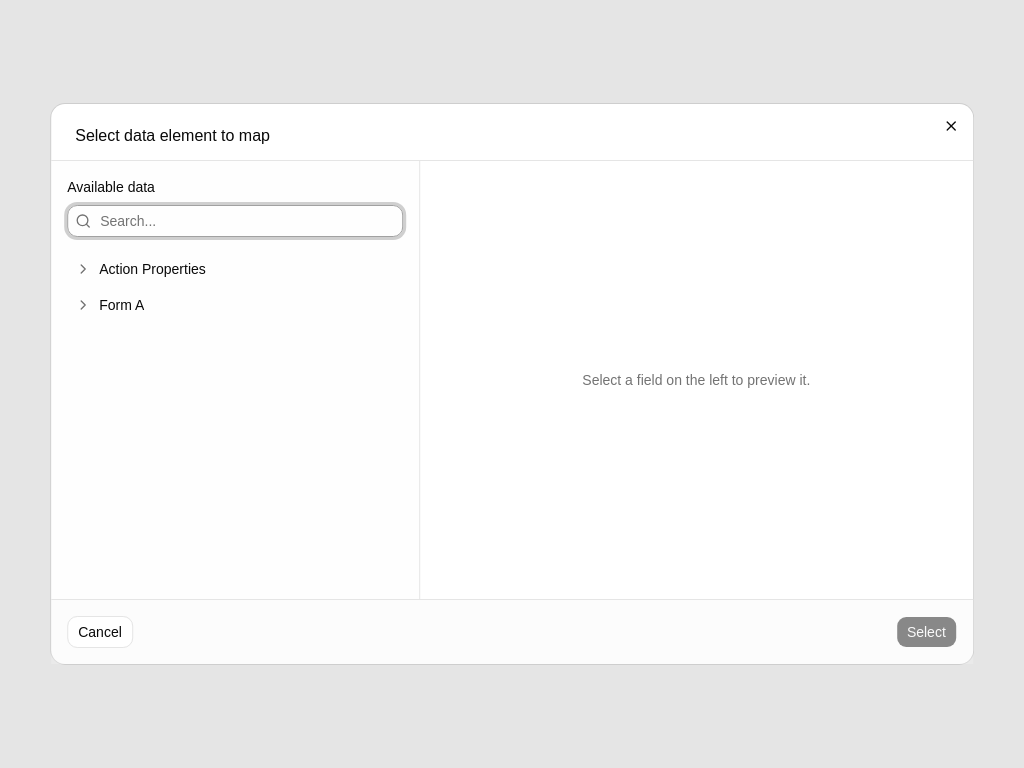
Test: PrefillModal › Select button is disabled until an option is selected
Expected: the button "Select" is disabled, top-left (896, 616), bottom-right (957, 648)
In the field with placeholder "Search...": (235, 221) top-left (67, 205), bottom-right (403, 237), type "action id"
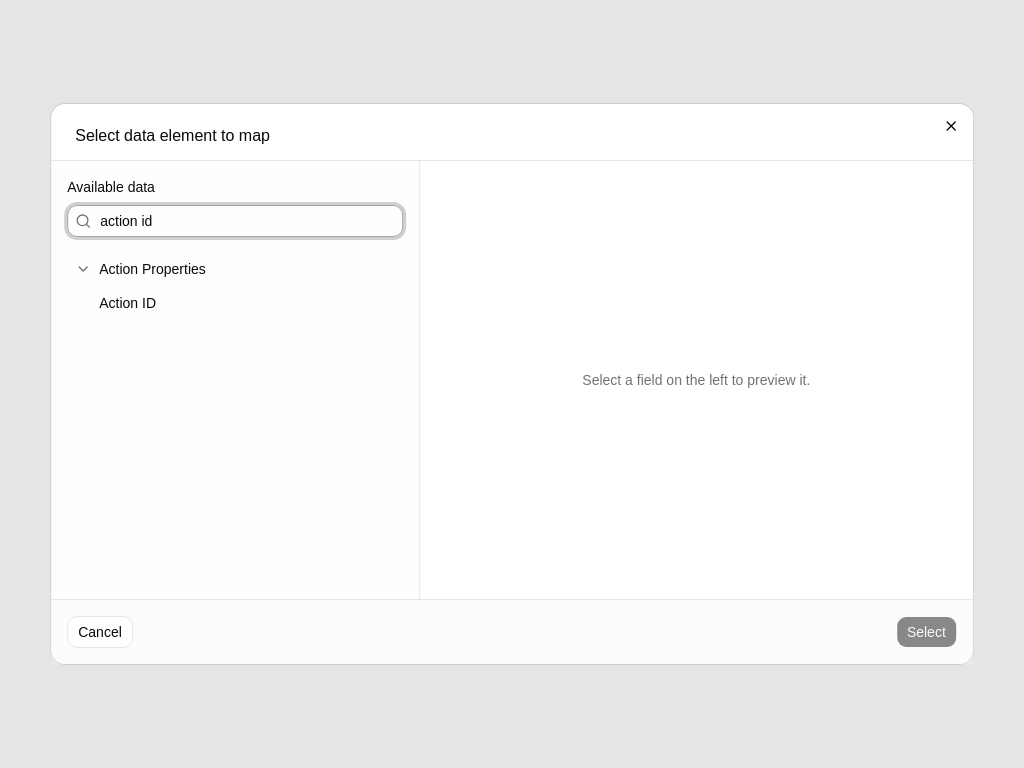
Click the button "Action ID": (128, 303) top-left (91, 289), bottom-right (403, 317)
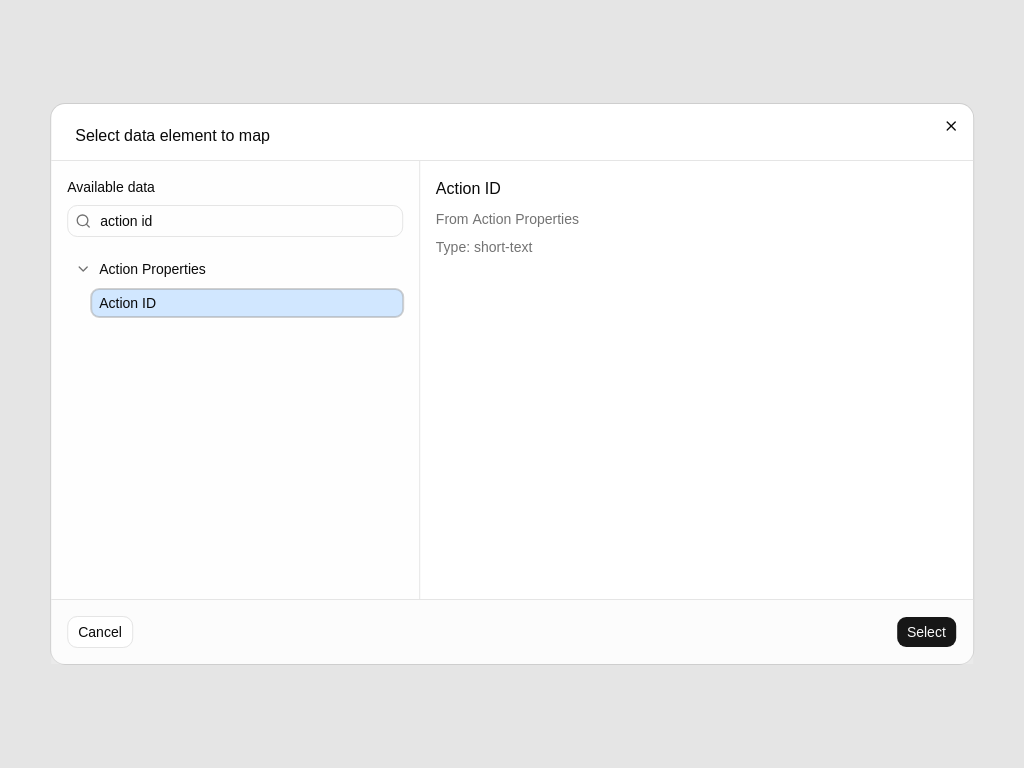
Now the button "Select" is enabled, box top-left (896, 616), bottom-right (957, 648)
